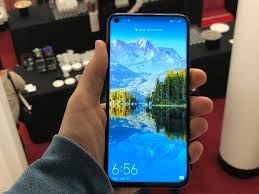huawei: (104, 10, 190, 188)
